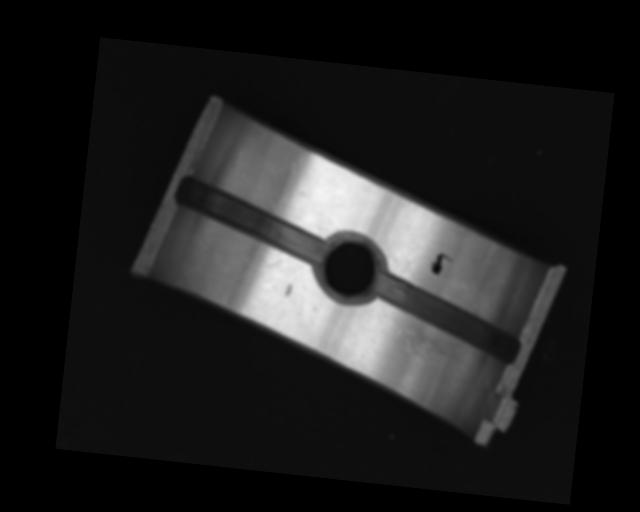blot: (429, 251, 453, 277)
bruise: (284, 282, 292, 297)
gap: (368, 270, 527, 364), (170, 176, 332, 265)
hole: (314, 232, 388, 301)
scratch: (387, 314, 470, 365)
